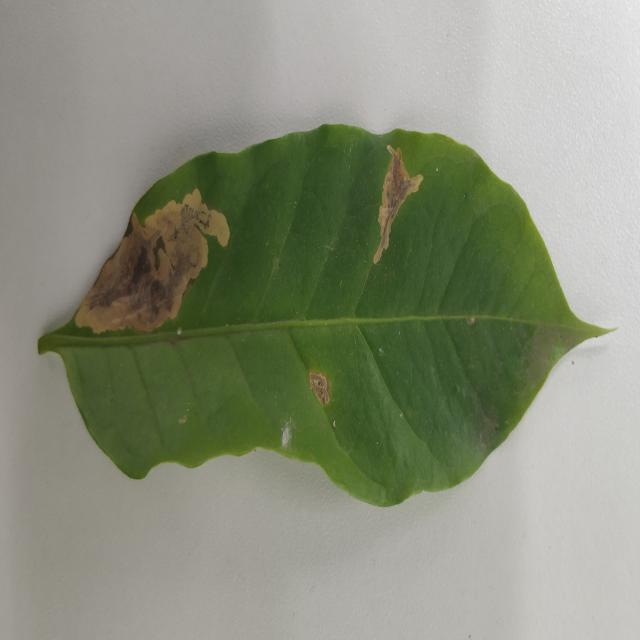Plaga-Minador: (36, 125, 615, 511)
